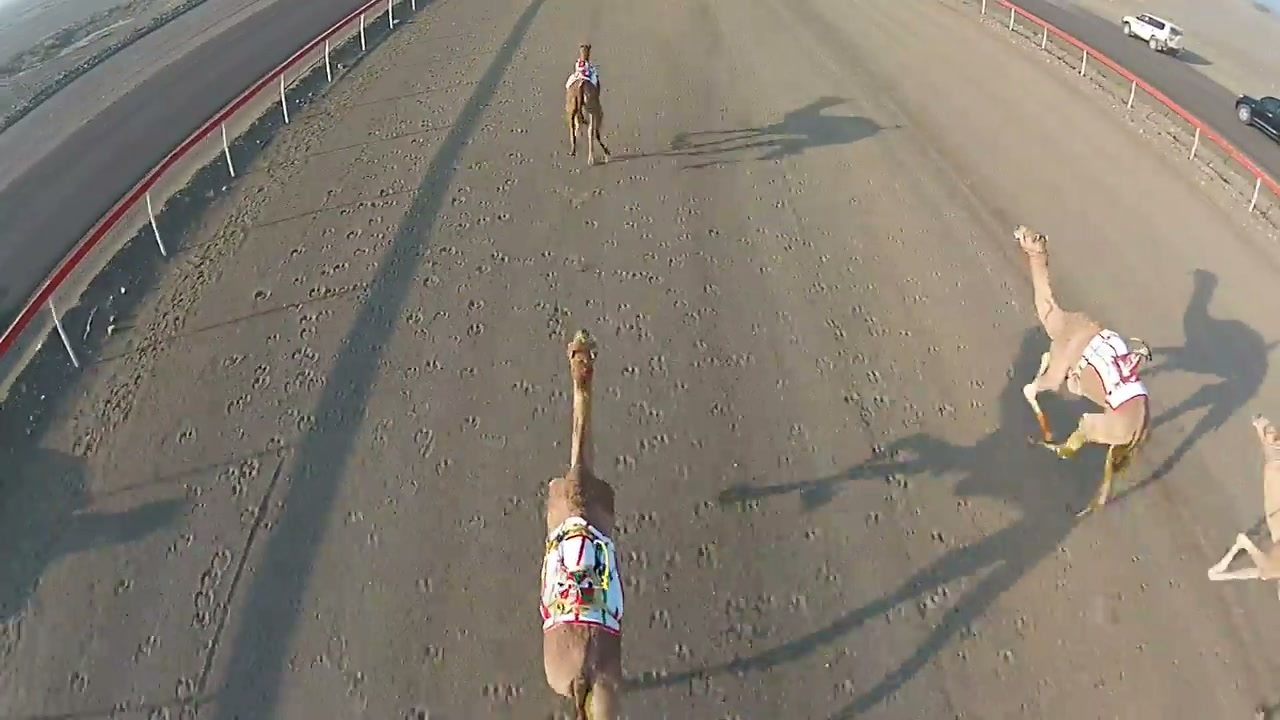animal_footprint: (40, 224, 397, 719), (404, 133, 671, 697)
